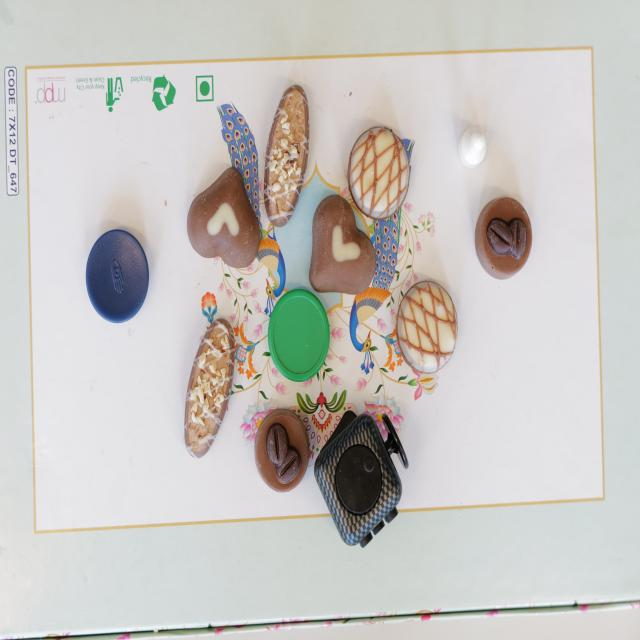Amandina: (175, 306, 238, 458), (261, 85, 311, 228)
Arabia: (468, 187, 541, 288), (252, 403, 312, 495)
Creme_brulee: (392, 277, 460, 377), (352, 125, 409, 218)
Passion_au_lait: (184, 162, 264, 274), (306, 188, 377, 298)
